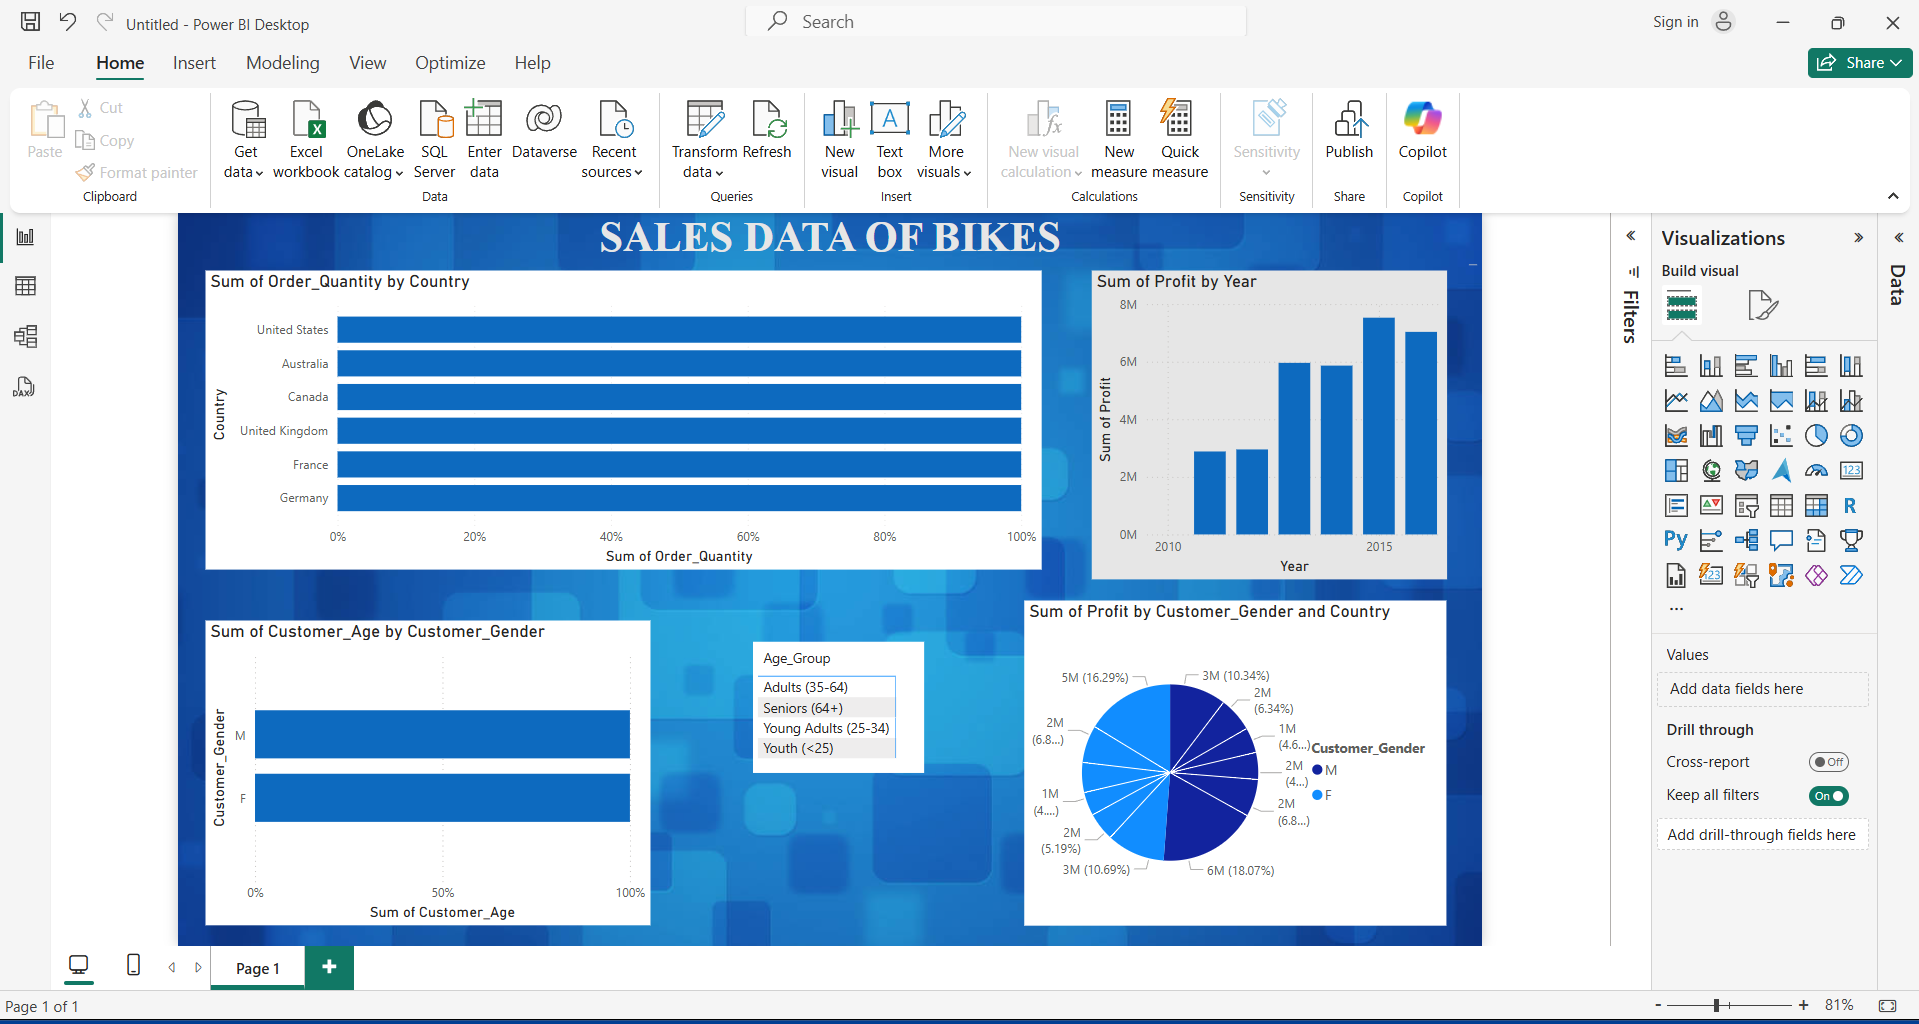

What the dashboard file says about the page in this screenshot:
{"tool":"powerbi","page":{"name":"Page 1","canvas":[1280,720],"ordinal":0},"visuals":[{"type":"textbox","title":"SALES DATA OF BIKES","box":[0,0,1280.3,56.3],"z":0},{"type":"clusteredColumnChart","fields":{"Category":["sales_data.Date.Variation.Date Hierarchy.Year","sales_data.Date.Variation.Date Hierarchy.Quarter","sales_data.Date.Variation.Date Hierarchy.Month"],"Y":["Sum(sales_data.Profit)"]},"box":[896.9,56.4,348.5,303.1],"z":1000},{"type":"hundredPercentStackedBarChart","fields":{"Category":["sales_data.Country"],"Y":["Sum(sales_data.Order_Quantity)"]},"box":[27,56.4,820.9,293.3],"z":2000},{"type":"hundredPercentStackedBarChart","fields":{"Category":["sales_data.Customer_Gender"],"Y":["Sum(sales_data.Customer_Age)"]},"box":[27,400,436.8,299.4],"z":3000},{"type":"pieChart","fields":{"Category":["sales_data.Customer_Gender"],"Series":["sales_data.Country"],"Y":["Sum(sales_data.Profit)"]},"box":[830.7,380.4,414.7,319],"z":4000},{"type":"pivotTable","fields":{"Rows":["sales_data.Age_Group"]},"box":[564.4,420.9,168.1,128.8],"z":5000}]}

Visuals, with their boxes on the page's 1280x720 design canvas (x1, y1, x2, y2). These are canvas units, not pixel positions in the 1919x1024 screenshot, which may show the page scaled, cropped or inside an application window:
"SALES DATA OF BIKES" textbox: x1=0, y1=0, x2=1280, y2=56
clusteredColumnChart - sales_data.Date.Variation.Date Hierarchy.Year x sales_data.Date.Variation.Date Hierarchy.Quarter: x1=897, y1=56, x2=1245, y2=360
hundredPercentStackedBarChart - sales_data.Country x Sum(sales_data.Order_Quantity): x1=27, y1=56, x2=848, y2=350
hundredPercentStackedBarChart - sales_data.Customer_Gender x Sum(sales_data.Customer_Age): x1=27, y1=400, x2=464, y2=699
pieChart - sales_data.Customer_Gender x sales_data.Country: x1=831, y1=380, x2=1245, y2=699
pivotTable - sales_data.Age_Group: x1=564, y1=421, x2=732, y2=550
